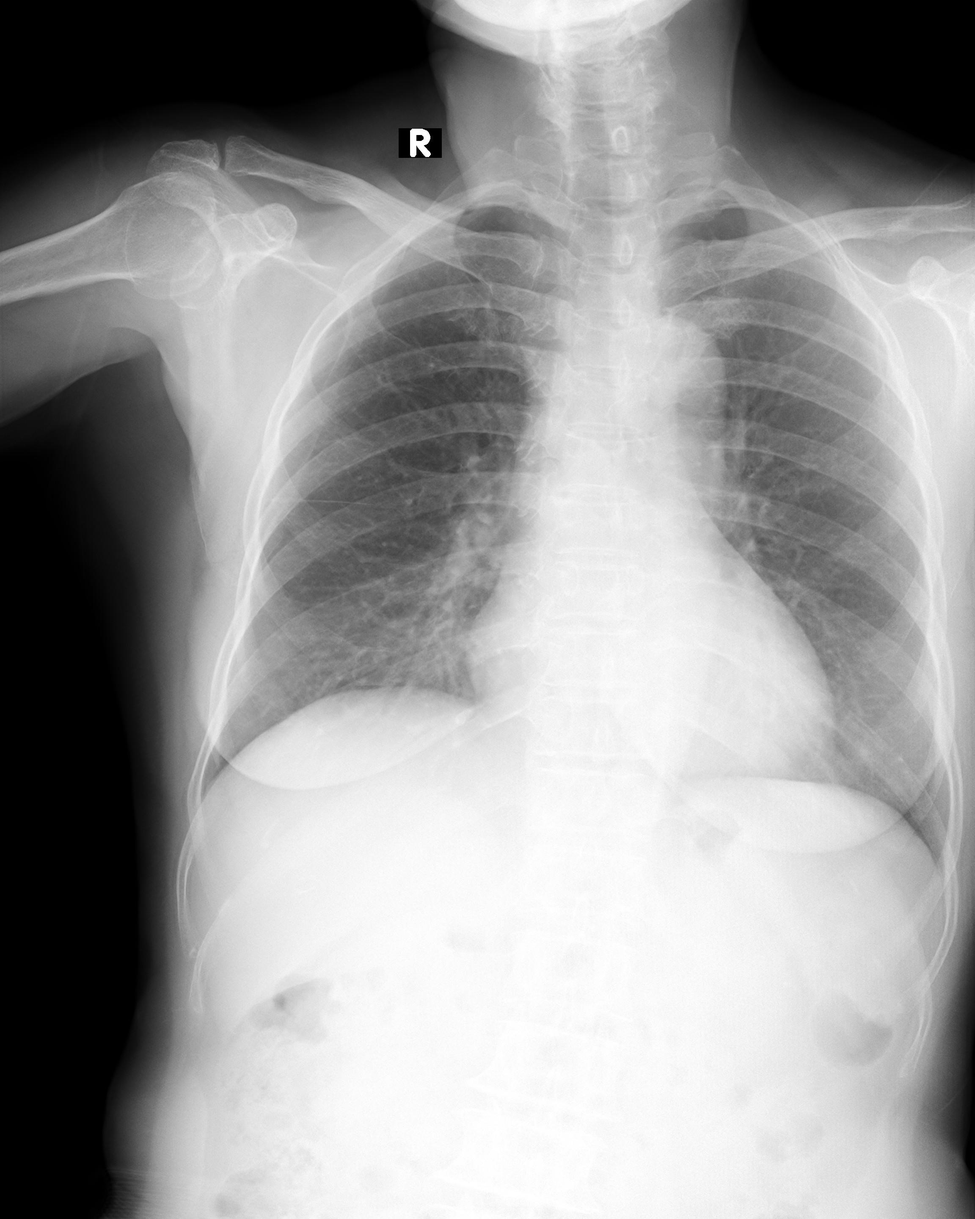Aortic enlargement: (617, 317, 725, 442)
